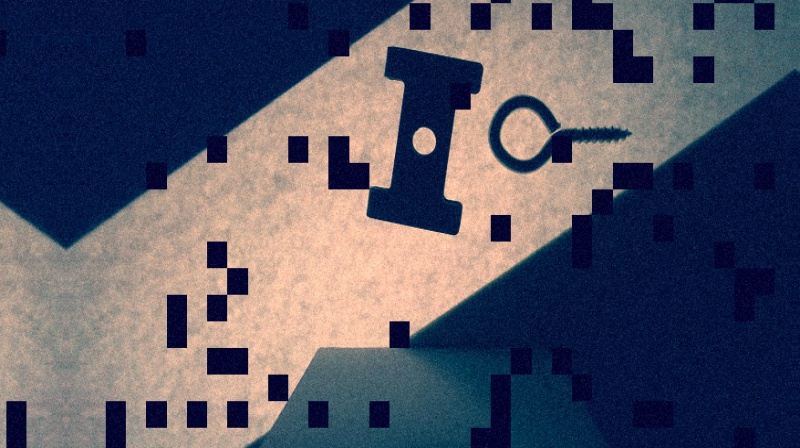O001: (486, 90, 630, 177)
O002: (362, 45, 485, 235)
